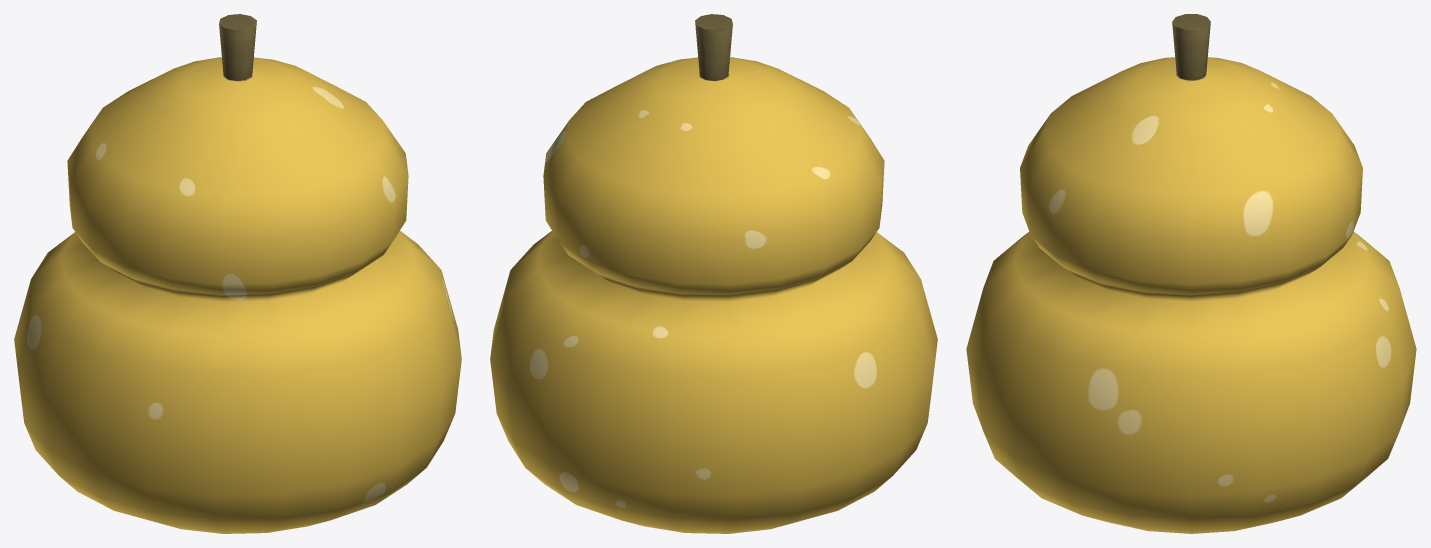
Rendered from berry.fbx.
The picture shows the model from 3 angles, left to right: view 1: azimuth 30°, elevation 25°; view 2: azimuth 150°, elevation 25°; view 3: azimuth 270°, elevation 25°; orthographic projection.
Parts seen in each view (by area): view 1: pCylinder3; view 2: pCylinder3; view 3: pCylinder3.
Part boxes in pixels (<box>): pCylinder3: <box>14,14,461,533</box>; pCylinder3: <box>490,14,937,533</box>; pCylinder3: <box>966,14,1416,533</box>.
Size of the model in its own units: 4.99 by 5.81 by 4.99.
1 material, 1 textured.
